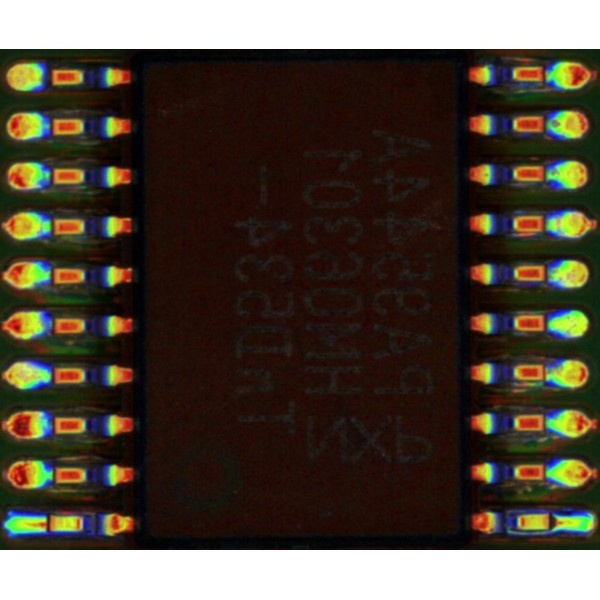Bad_podu: (544, 515, 569, 530), (31, 518, 59, 529)
Bad_qiaojiao: (508, 530, 551, 536)
